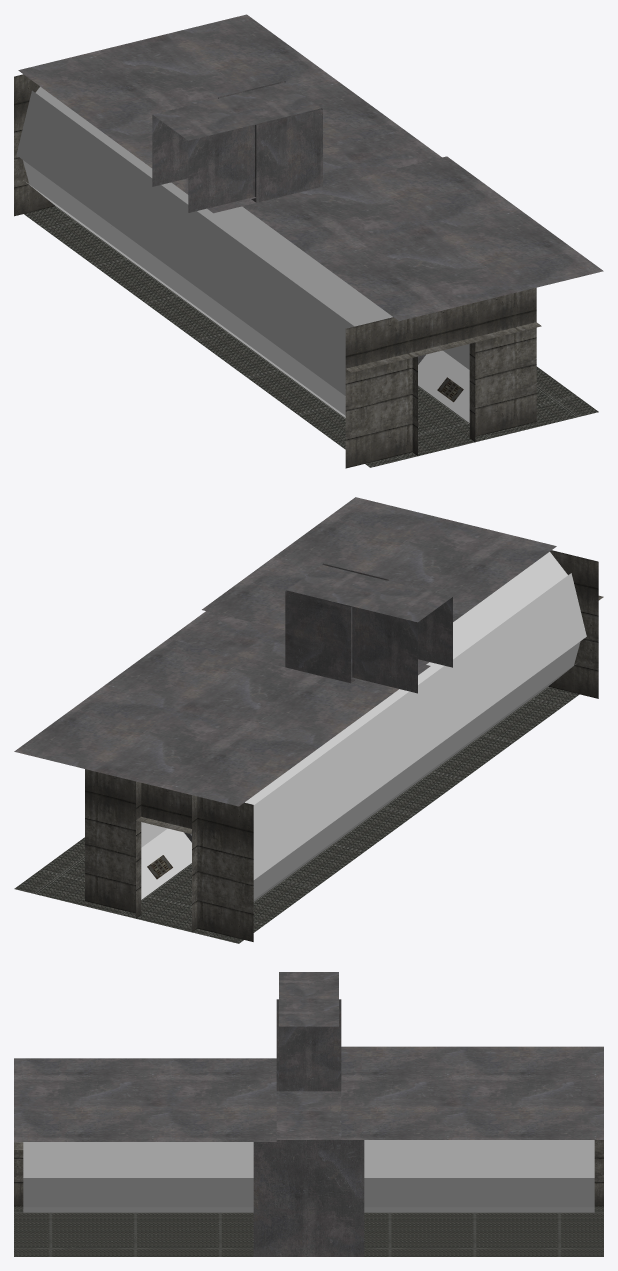
File: Room2_Tunnel2_HCZ.fbx
The picture shows the model from 3 angles, top to bottom: view 1: azimuth 30°, elevation 25°; view 2: azimuth 150°, elevation 25°; view 3: azimuth 270°, elevation 25°; orthographic projection. The views are drawn at different scales.
Visible parts, largest first — view 1: Room2_Tunnel2_HCZ; view 2: Room2_Tunnel2_HCZ; view 3: Room2_Tunnel2_HCZ.
Part boxes in pixels (x1,y1,x2,y2): Room2_Tunnel2_HCZ: (14,14,603,468); Room2_Tunnel2_HCZ: (14,497,603,943); Room2_Tunnel2_HCZ: (14,972,603,1256).
Bounding box in the file's own units: 5.4 × 4.36 × 12.8.
